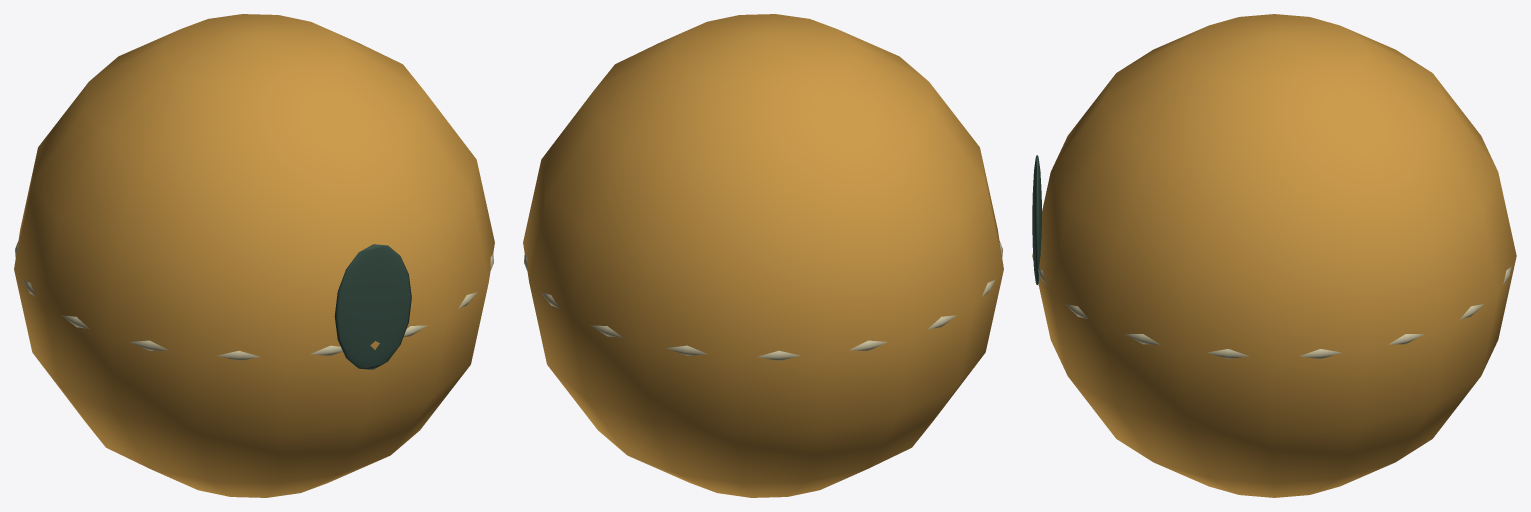
3 views of the same model, side by side, from view 1: azimuth 30°, elevation 25°; view 2: azimuth 150°, elevation 25°; view 3: azimuth 270°, elevation 25° (orthographic).
Visible parts, largest first — view 1: capsule_Capsule_Root_GH_amber.002, capsule_Capsule_Root_GH_fern-dark.002, capsule_Capsule_Root_GH_ivory-dark.002; view 2: capsule_Capsule_Root_GH_amber.002, capsule_Capsule_Root_GH_ivory-dark.002; view 3: capsule_Capsule_Root_GH_amber.002, capsule_Capsule_Root_GH_ivory-dark.002, capsule_Capsule_Root_GH_fern-dark.002.
Boxes of the visible parts, x1,y1,x2,y2 form: capsule_Capsule_Root_GH_amber.002: (14, 14, 494, 497); capsule_Capsule_Root_GH_fern-dark.002: (334, 244, 411, 369); capsule_Capsule_Root_GH_ivory-dark.002: (15, 241, 493, 360); capsule_Capsule_Root_GH_amber.002: (523, 14, 1003, 497); capsule_Capsule_Root_GH_ivory-dark.002: (524, 241, 1002, 360); capsule_Capsule_Root_GH_amber.002: (1032, 14, 1516, 497); capsule_Capsule_Root_GH_ivory-dark.002: (1038, 267, 1511, 358); capsule_Capsule_Root_GH_fern-dark.002: (1032, 155, 1041, 284).
Size of the model in its own units: 0.098 by 0.098 by 0.098.
